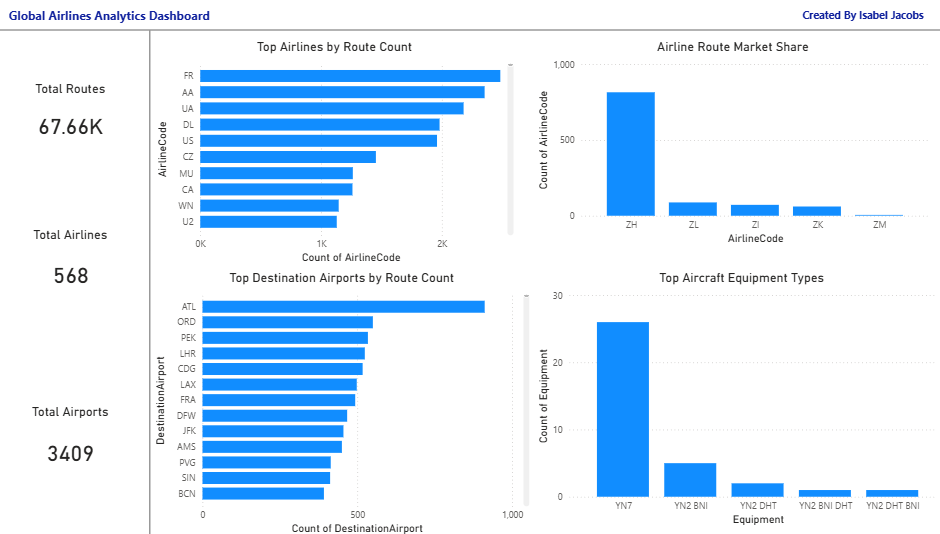

This screenshot's page, from the dashboard's own definition file:
{"tool":"powerbi","page":{"name":"Page 1","canvas":[1280,720],"ordinal":0},"visuals":[{"type":"clusteredBarChart","title":"Top Destination Airports by Route Count","fields":{"Category":["rpt_airline_routes.DestinationAirport"],"Y":["CountNonNull(rpt_airline_routes.DestinationAirport)"]},"box":[213.3,363.3,510,356.7],"z":0},{"type":"clusteredBarChart","title":"Top Airlines by Route Count","fields":{"Y":["CountNonNull(rpt_airline_routes.AirlineCode)"],"Category":["rpt_airline_routes.AirlineCode"]},"box":[215,56.7,486.7,303.3],"z":1000},{"type":"clusteredColumnChart","title":"Top Aircraft Equipment Types","fields":{"Category":["rpt_airline_routes.Equipment"],"Y":["CountNonNull(rpt_airline_routes.Equipment)"]},"box":[723.3,363.3,556.7,345],"z":2000},{"type":"textbox","box":[0,8,318,36],"z":3000},{"type":"card","title":"Total Routes","fields":{"Values":["CountNonNull(rpt_airline_routes.AirlineCode)"]},"box":[8,112,198,96],"z":4000},{"type":"card","title":"Total Airlines","fields":{"Values":["Count(rpt_airline_routes.AirlineCode)"]},"box":[8,306,198,106],"z":5000},{"type":"card","title":"Total Airports","fields":{"Values":["Count(rpt_airline_routes.SourceAirport)"]},"box":[0,542,214,110],"z":6000},{"type":"shape","box":[126,44,174,676],"z":7000},{"type":"shape","box":[0,20,1280,48],"z":8000},{"type":"clusteredColumnChart","title":"Airline Route Market Share","fields":{"Category":["rpt_airline_routes.AirlineCode"],"Y":["CountNonNull(rpt_airline_routes.AirlineCode)"]},"box":[723.3,56.7,533.3,278.3],"z":9000},{"type":"textbox","box":[1048,8,232,30],"z":10000}]}

Visuals, with their boxes in screenshot pixels (x1, y1, x2, y2), scaled from the page's 1280x720 canvas onto the 940x534 screenshot:
"Top Destination Airports by Route Count" clusteredBarChart: [x1=157, y1=269, x2=531, y2=533]
"Top Airlines by Route Count" clusteredBarChart: [x1=158, y1=42, x2=515, y2=267]
"Top Aircraft Equipment Types" clusteredColumnChart: [x1=531, y1=269, x2=939, y2=525]
textbox: [x1=0, y1=6, x2=234, y2=33]
"Total Routes" card: [x1=6, y1=83, x2=151, y2=154]
"Total Airlines" card: [x1=6, y1=227, x2=151, y2=306]
"Total Airports" card: [x1=0, y1=402, x2=157, y2=484]
shape: [x1=93, y1=33, x2=220, y2=533]
shape: [x1=0, y1=15, x2=939, y2=50]
"Airline Route Market Share" clusteredColumnChart: [x1=531, y1=42, x2=923, y2=248]
textbox: [x1=770, y1=6, x2=939, y2=28]
